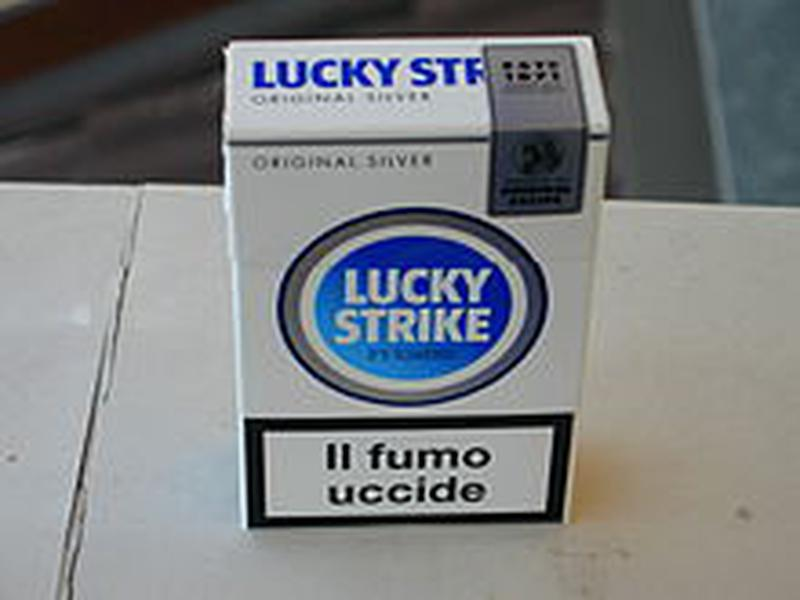lucky_strike_blue: (233, 132, 583, 530)
